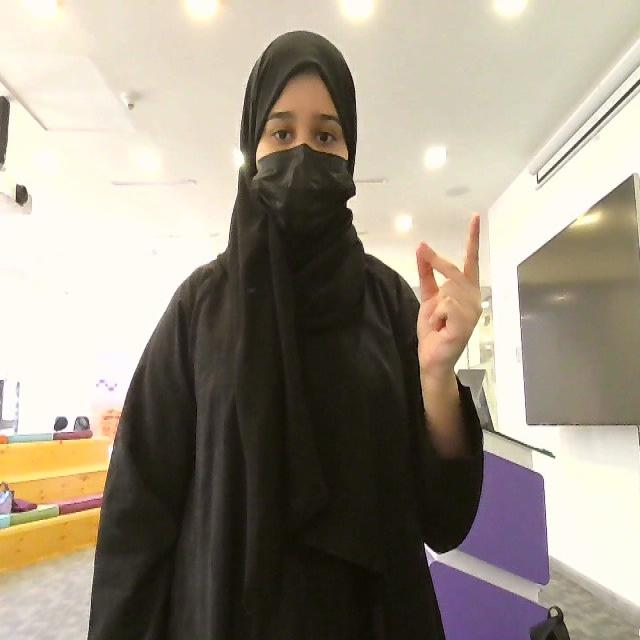emergency: (402, 205, 519, 402)
